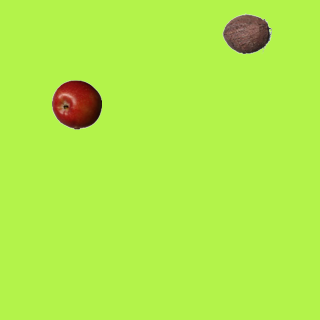Apple Braeburn: (51, 79, 101, 129)
Cocos: (221, 8, 271, 58)
